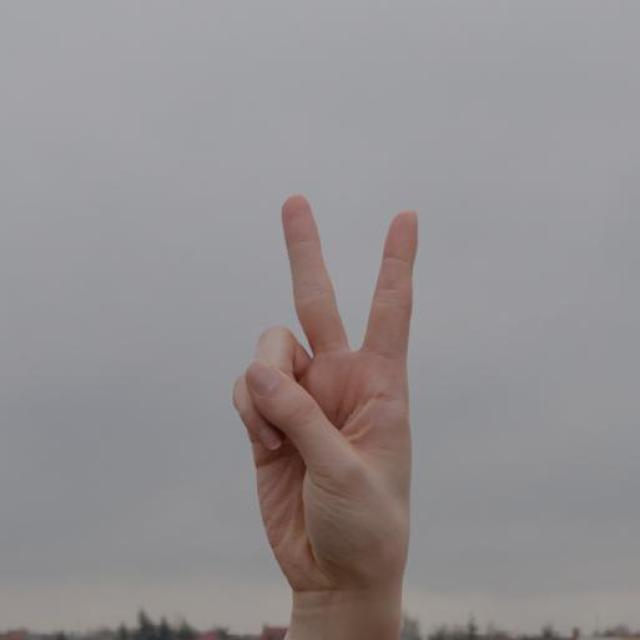V: (228, 190, 423, 600)
